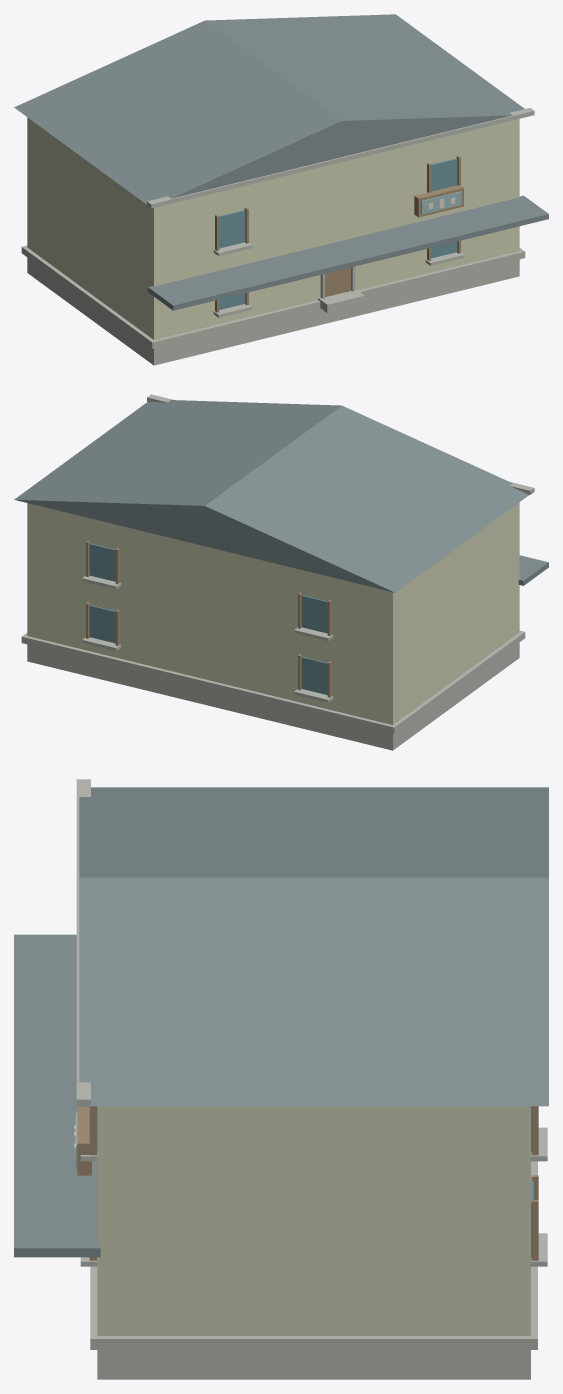
The model's file is shed-3.glb.
3 views of the same model, one above another, from view 1: azimuth 30°, elevation 25°; view 2: azimuth 150°, elevation 25°; view 3: azimuth 270°, elevation 25° (orthographic). The views are drawn at different scales.
Bounding box in the file's own units: 9.44 × 4.8 × 6.66.
